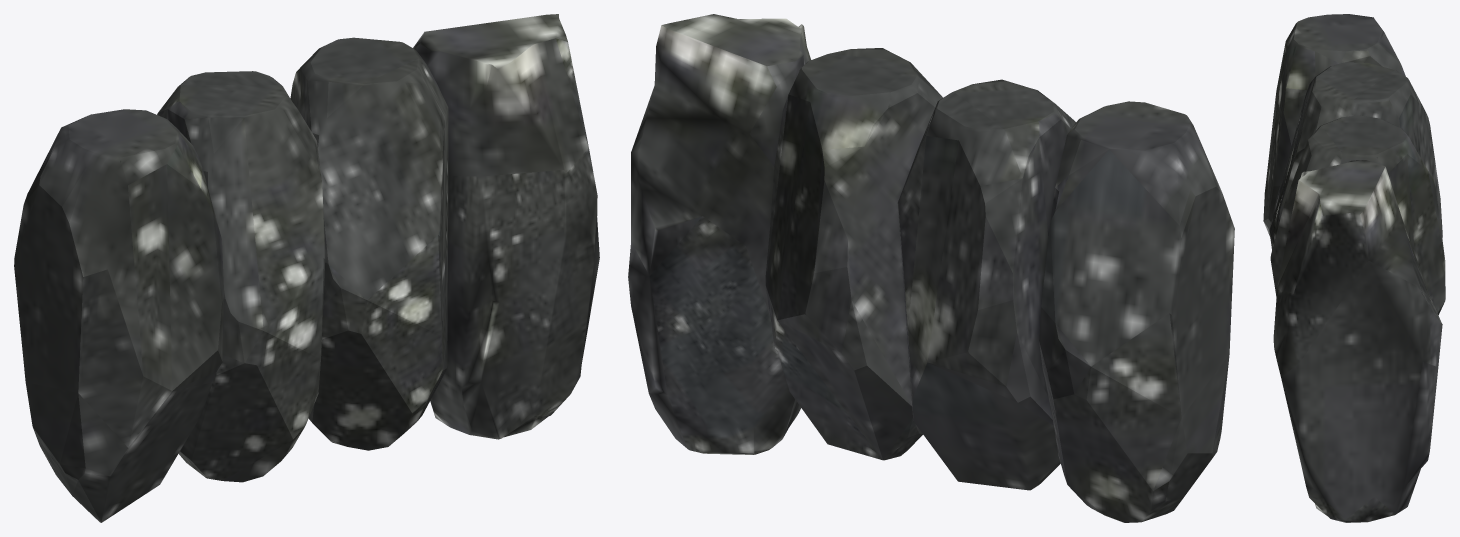
Rendered from bluff.fbx.
The picture shows the model from 3 angles, left to right: view 1: azimuth 30°, elevation 25°; view 2: azimuth 150°, elevation 25°; view 3: azimuth 270°, elevation 25°; orthographic projection. The views are drawn at different scales.
Visible parts, largest first — view 1: bluffs; view 2: bluffs; view 3: bluffs.
Boxes of the visible parts, x1,y1,x2,y2 form: bluffs: (14,14,599,522); bluffs: (628,14,1234,522); bluffs: (1263,14,1445,522).
Size of the model in its own units: 1433 by 1000 by 521.
